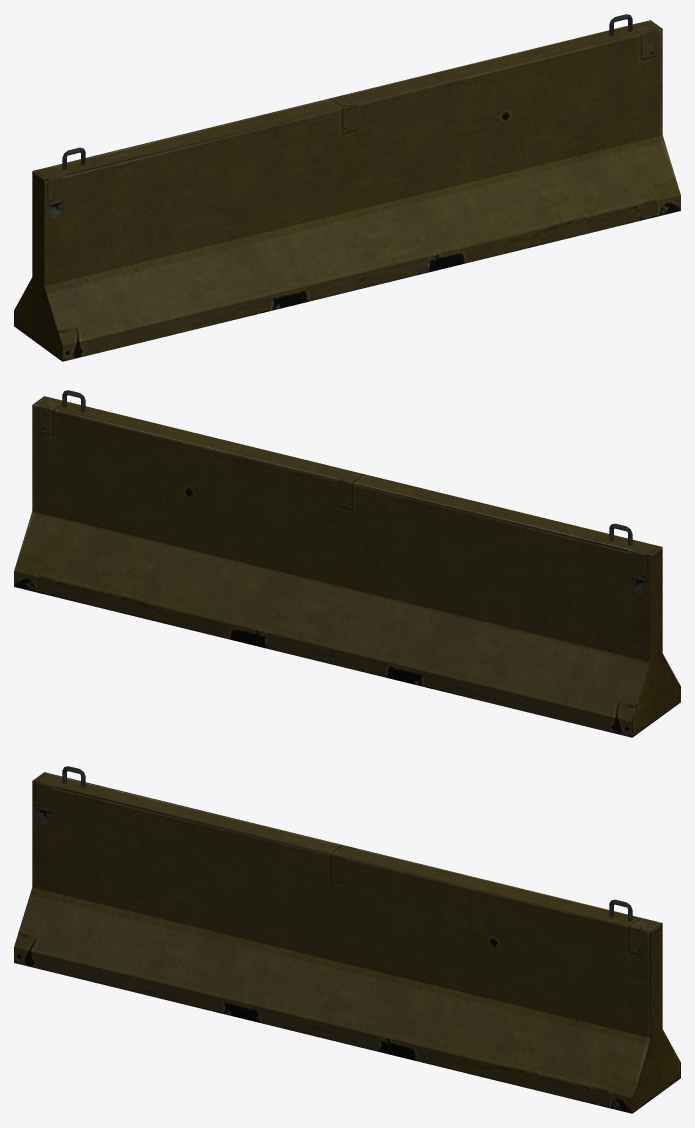
The model's file is barricade_a_1.obj.
The picture shows the model from 3 angles, top to bottom: view 1: azimuth 30°, elevation 25°; view 2: azimuth 150°, elevation 25°; view 3: azimuth 330°, elevation 25°; orthographic projection.
Visible parts, largest first — view 1: barricade_a_1; view 2: barricade_a_1; view 3: barricade_a_1.
Part boxes in pixels (x1,y1,x2,y2): barricade_a_1: (14,14,680,361); barricade_a_1: (14,390,680,737); barricade_a_1: (14,766,680,1113).
Bounding box in the file's own units: 2.94 × 0.8466 × 0.4.
